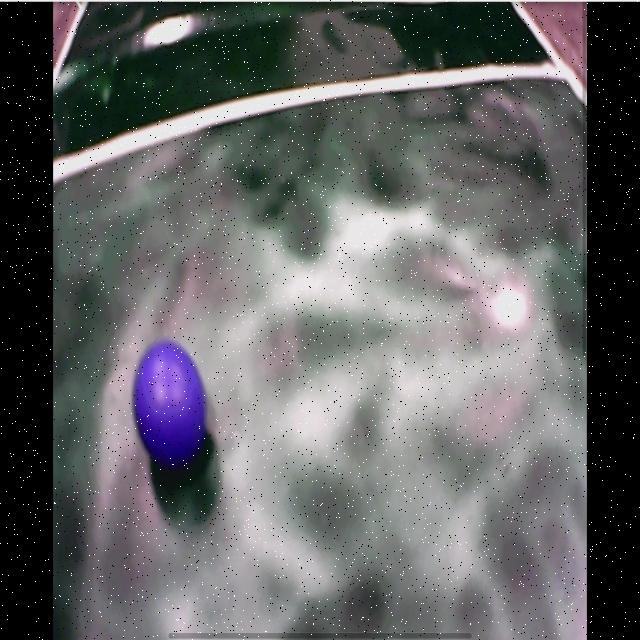ball: (134, 341, 205, 461)
